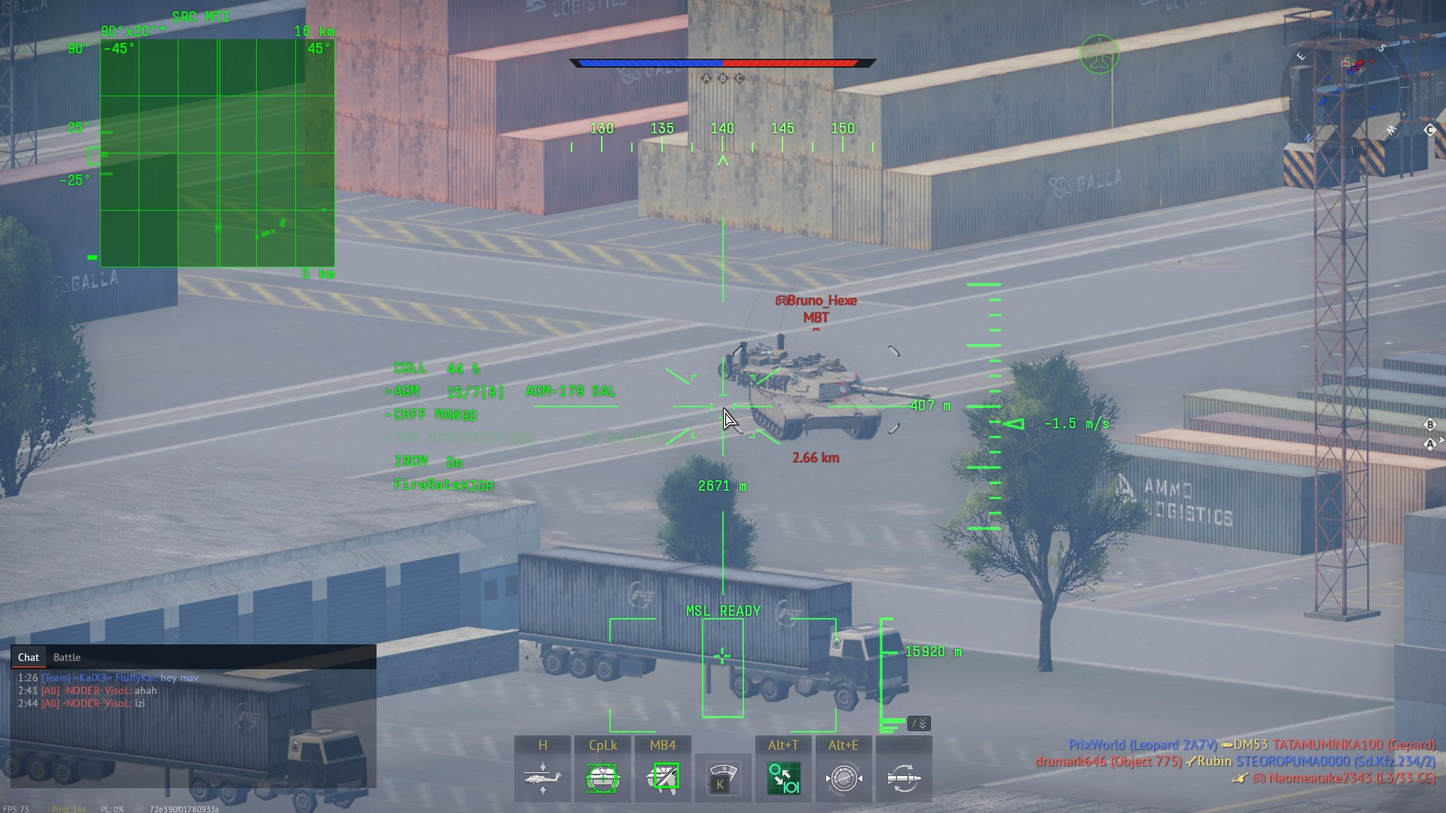leopard2: (717, 340, 933, 441)
